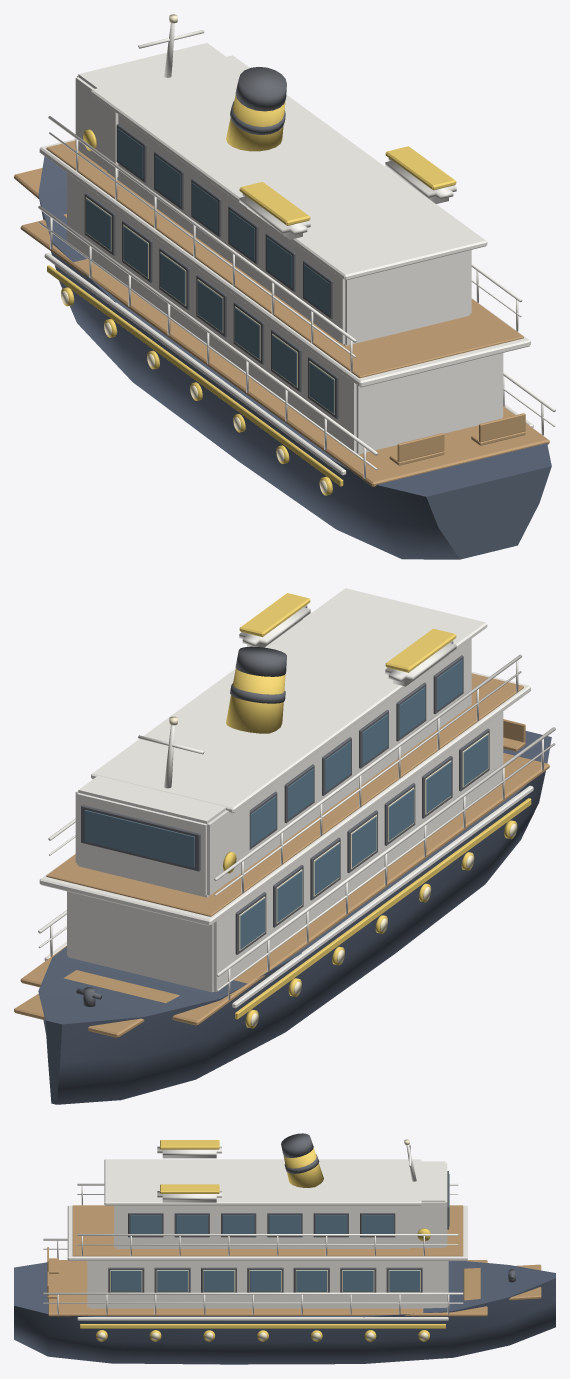
File: Istanbul_Ferry.fbx
The picture shows the model from 3 angles, top to bottom: view 1: azimuth 30°, elevation 25°; view 2: azimuth 150°, elevation 25°; view 3: azimuth 270°, elevation 25°; orthographic projection. The views are drawn at different scales.
Parts seen in each view (by area): view 1: Istanbul_Ferry; view 2: Istanbul_Ferry; view 3: Istanbul_Ferry.
Boxes of the visible parts, bbox=[...] form: Istanbul_Ferry: bbox=[14, 14, 555, 559]; Istanbul_Ferry: bbox=[14, 588, 555, 1104]; Istanbul_Ferry: bbox=[14, 1133, 555, 1364].
Bounding box in the file's own units: 5.66 × 9.2 × 22.2.
